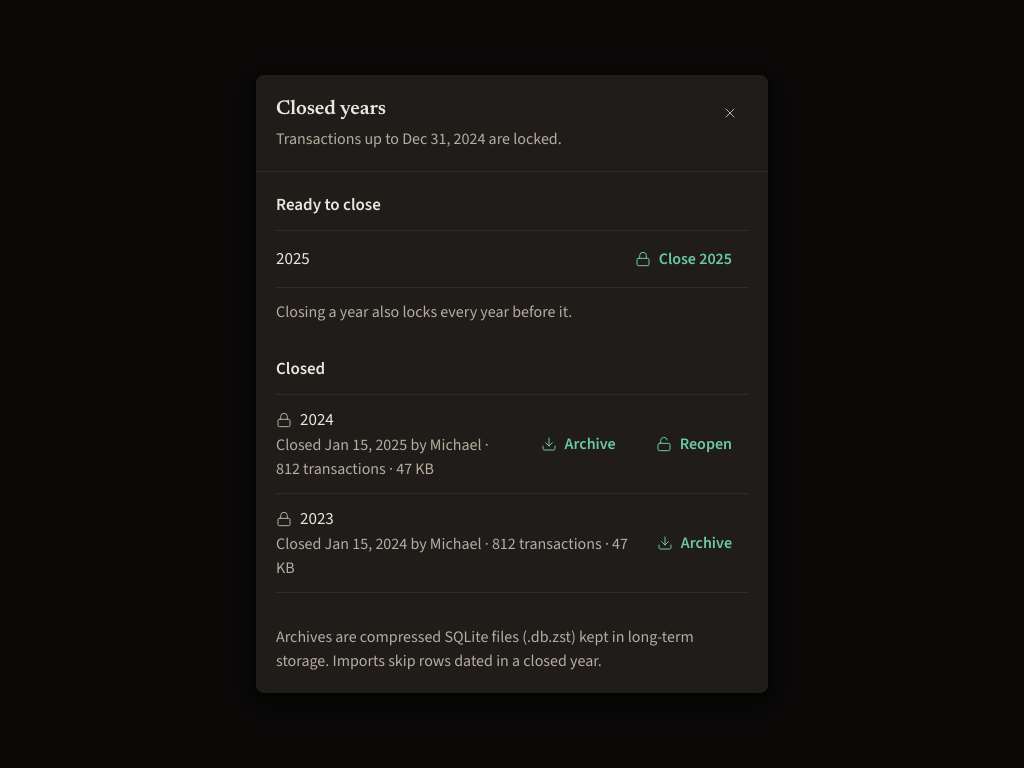
Scenario: ClosedYearsModal › closes a finished year after confirming
Click the button "Close 2025". click: (683, 259)
box: [619,239,748,279]
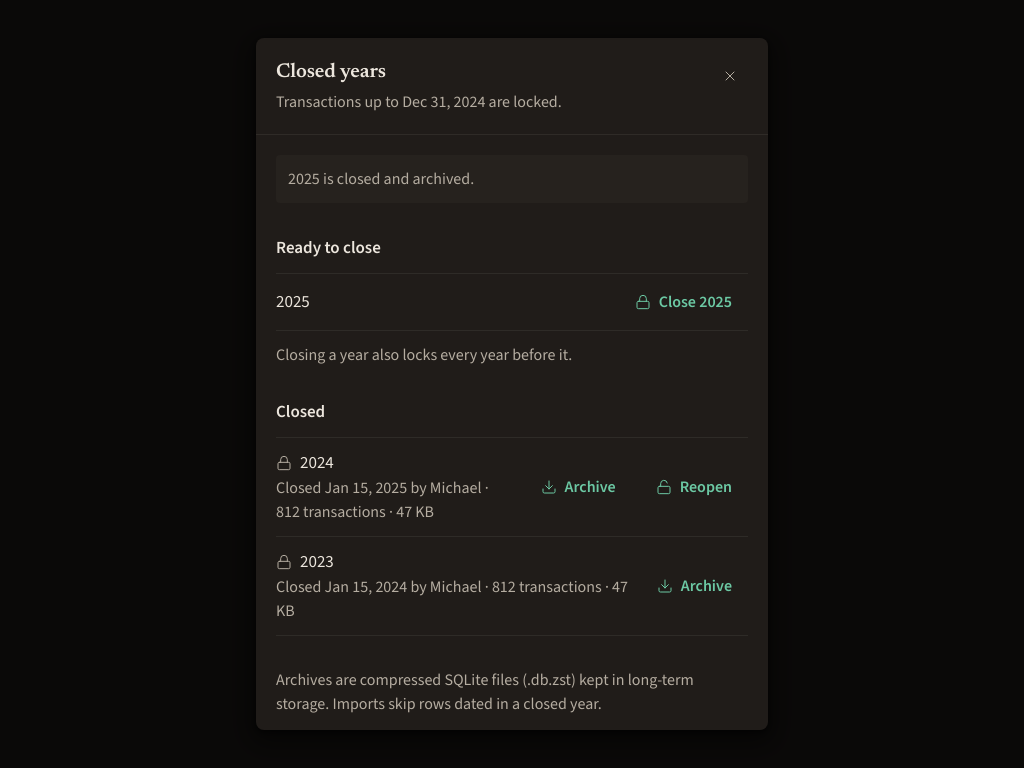
Expected: the text "2025 is closed and archived." is shown, [276,155,748,203]
